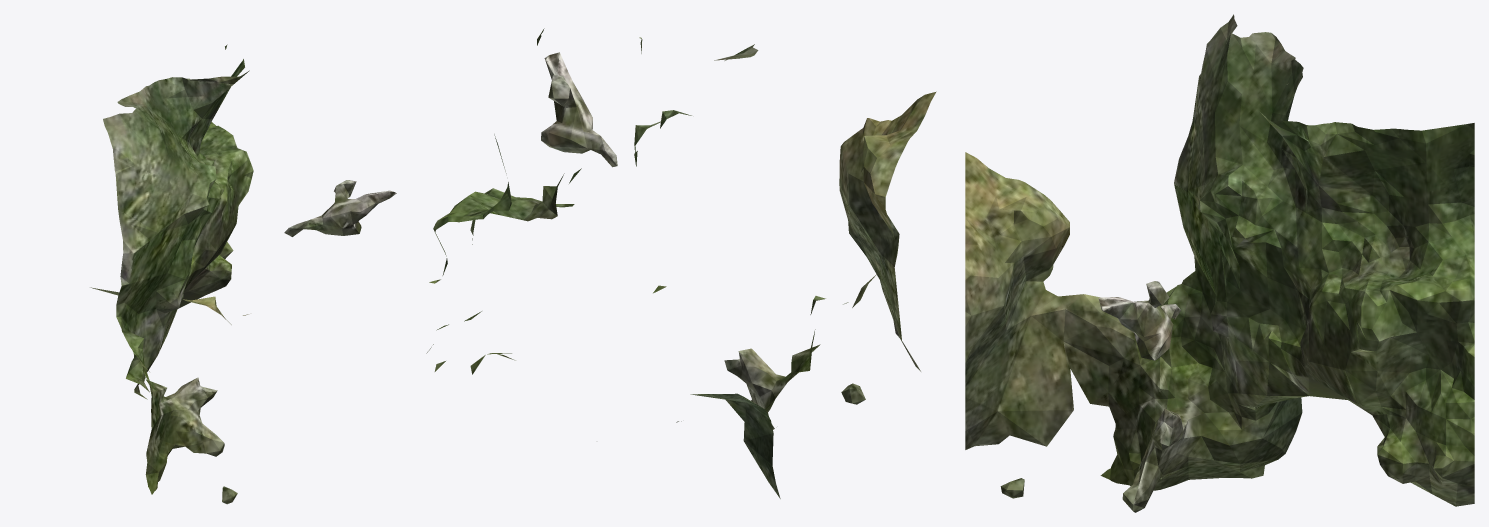
3 renders of one model, left to right at view 1: azimuth 30°, elevation 25°; view 2: azimuth 150°, elevation 25°; view 3: azimuth 270°, elevation 25°, orthographic. The views are drawn at different scales.
Bounding box in the file's own units: 4.46 × 5.9 × 5.9.
3 materials, 3 textured.
